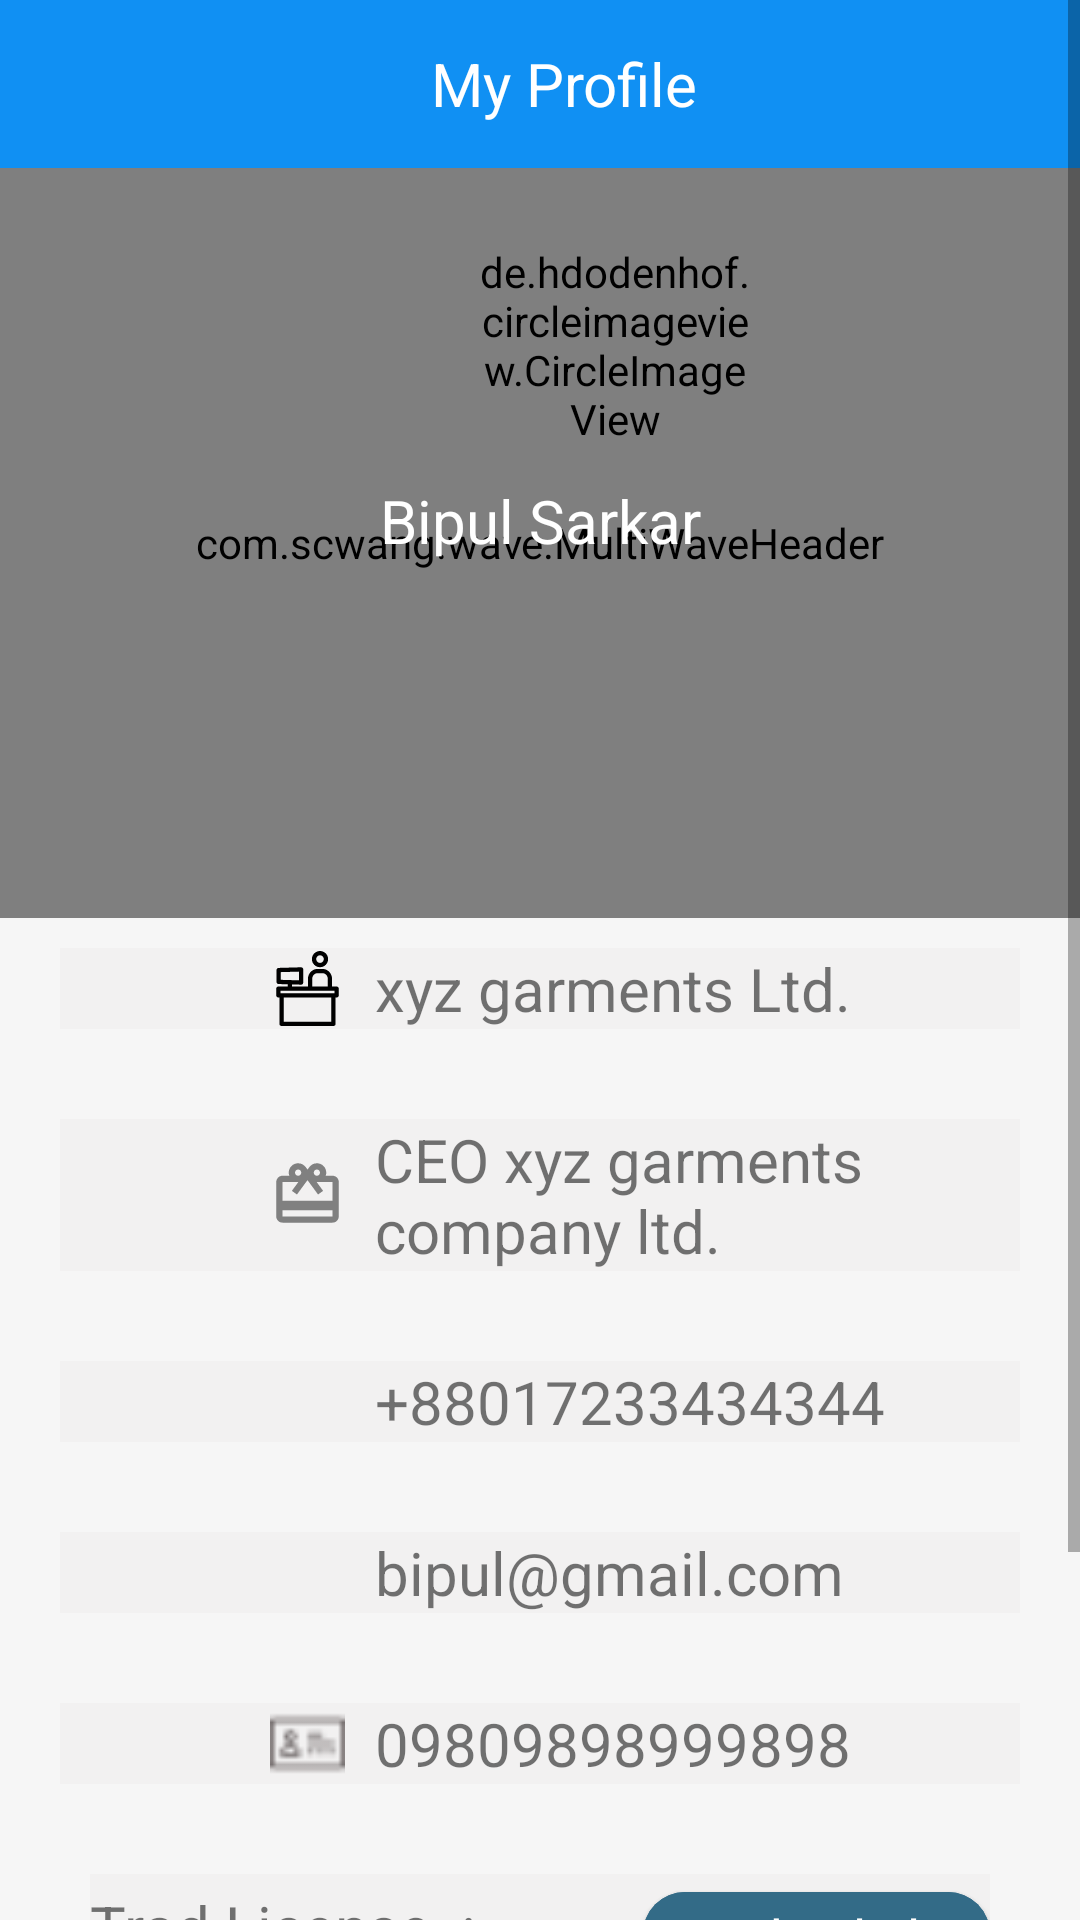

Screen size 1080×1920. Icon name, then its box in pixels as (x1, y1, x2, y2):
nidd: (270, 1715, 345, 1772)
